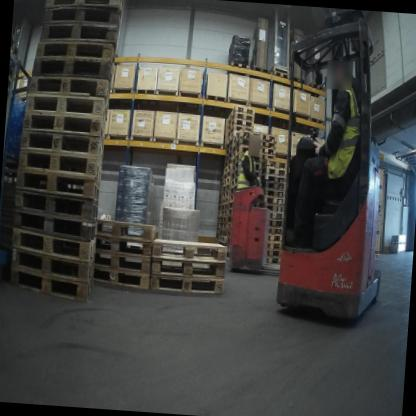forklift: (266, 8, 408, 341)
pallet: (18, 125, 108, 164), (28, 76, 110, 117), (19, 150, 105, 189), (22, 110, 106, 147), (11, 212, 101, 246), (29, 53, 114, 89), (15, 169, 100, 204), (13, 193, 102, 224), (34, 38, 117, 69), (28, 94, 107, 126), (41, 2, 119, 34), (11, 233, 97, 260), (11, 273, 96, 300), (151, 234, 227, 263), (8, 253, 99, 277), (152, 254, 227, 280), (35, 21, 115, 45), (150, 274, 225, 295), (92, 267, 150, 290), (96, 219, 158, 240), (94, 250, 154, 271), (95, 236, 155, 256), (47, 0, 126, 12), (227, 112, 258, 129), (225, 120, 256, 135), (233, 129, 257, 147), (227, 105, 252, 121), (247, 64, 271, 80), (226, 59, 248, 75), (227, 123, 247, 140), (232, 143, 251, 160), (232, 137, 254, 151), (223, 129, 242, 144), (261, 174, 286, 185), (261, 167, 287, 177), (306, 82, 327, 94), (262, 190, 285, 200), (262, 181, 285, 191), (261, 161, 286, 170), (271, 66, 287, 80), (262, 257, 282, 268), (265, 249, 282, 261), (310, 118, 325, 131), (223, 137, 235, 153), (230, 153, 244, 166), (265, 228, 285, 237), (264, 197, 284, 206), (290, 76, 306, 87), (268, 211, 284, 222), (265, 236, 284, 245), (266, 241, 283, 251), (260, 132, 276, 142), (261, 140, 276, 150), (263, 205, 284, 212), (267, 221, 285, 229), (261, 149, 275, 159), (222, 163, 232, 176), (221, 184, 232, 195), (231, 169, 241, 181), (221, 190, 231, 202), (231, 176, 240, 189), (232, 161, 241, 173), (225, 144, 234, 156), (262, 154, 275, 162), (230, 185, 240, 195), (223, 159, 233, 169), (224, 152, 232, 164), (223, 176, 231, 188), (222, 171, 231, 181), (221, 196, 230, 206), (219, 216, 227, 225), (221, 201, 228, 211), (218, 229, 226, 237), (254, 163, 261, 172), (220, 208, 227, 215), (231, 194, 237, 202), (227, 235, 231, 245), (220, 223, 226, 229), (229, 202, 234, 209), (229, 215, 233, 223), (229, 209, 233, 216), (228, 223, 232, 230), (227, 230, 231, 236)
pallet_truck: (224, 129, 299, 283)
stillage: (0, 144, 28, 291), (5, 56, 39, 171), (5, 45, 22, 145)
